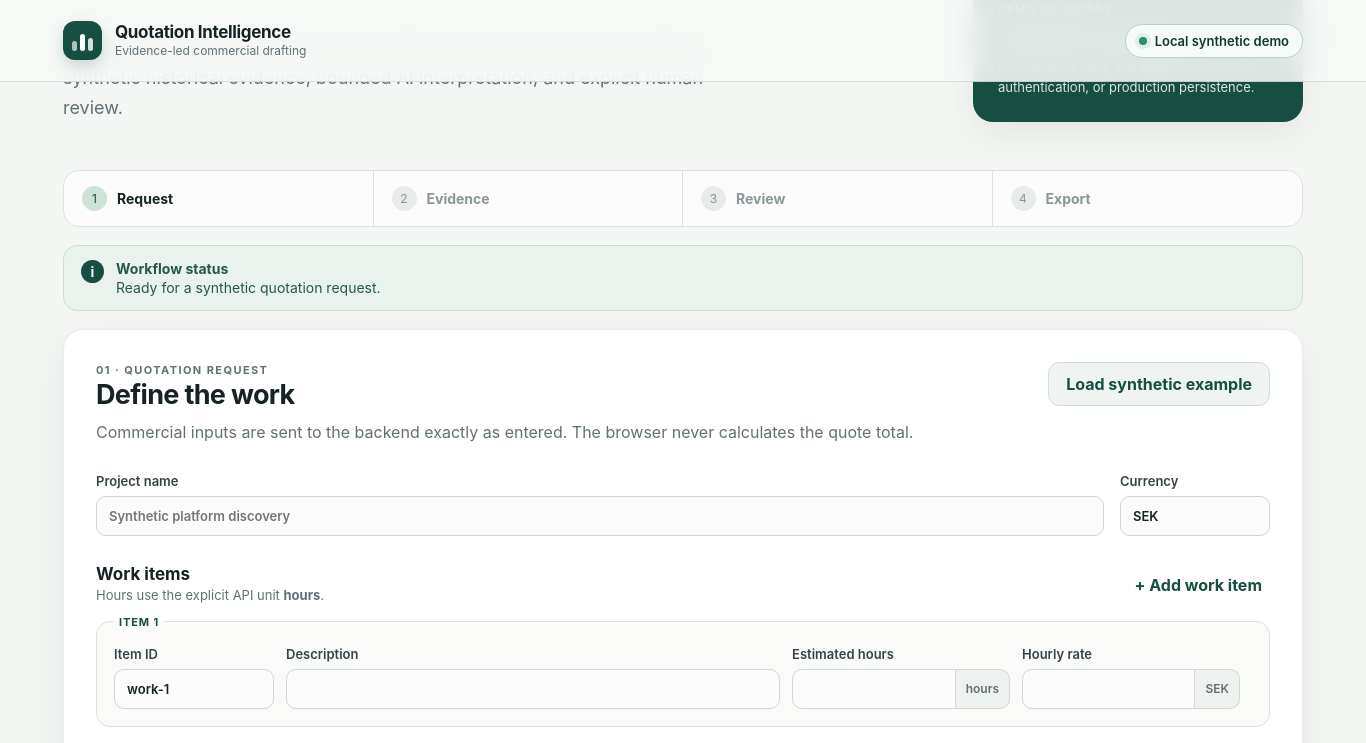
it: C20 quotation workflow › keeps export disabled until explicit backend approval and downloads backend bytes
(page scrolled)
Click the button "Load synthetic example" at (1159, 384), box [1048,362,1270,406]
(page scrolled)
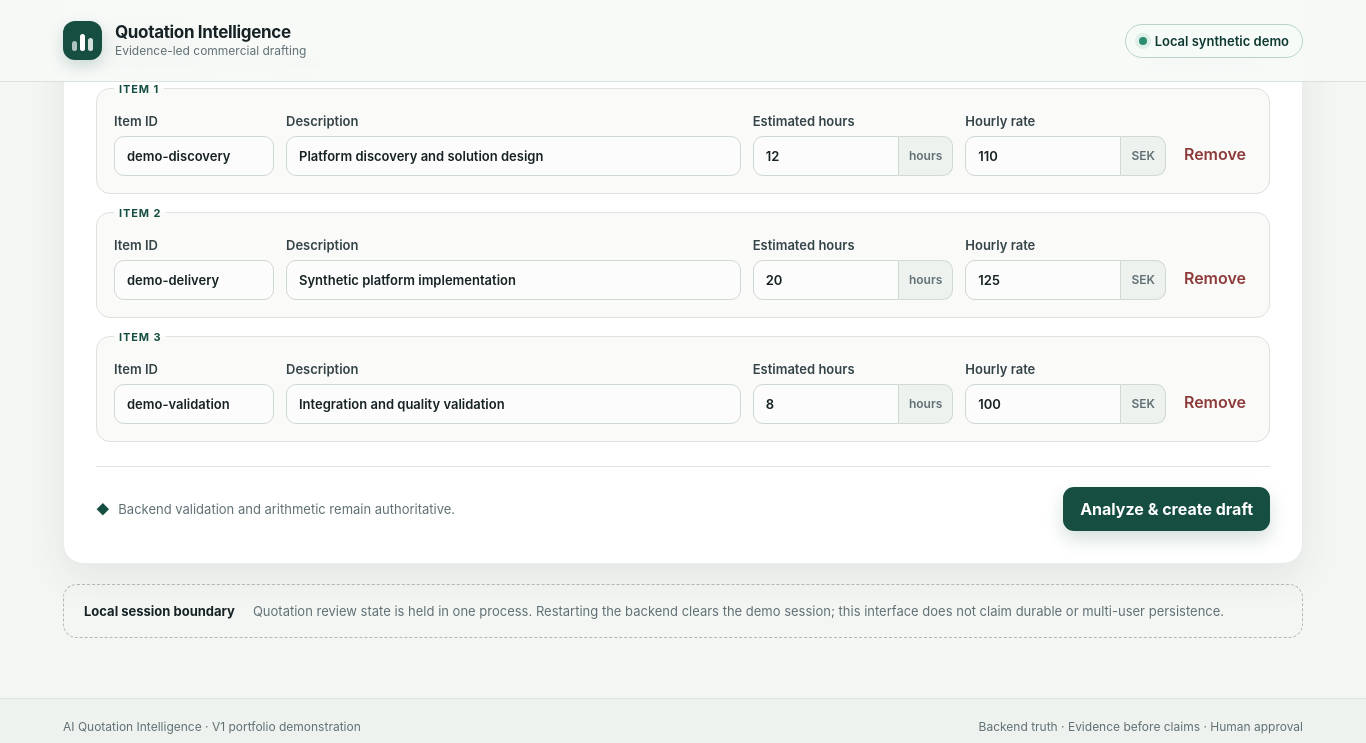
Click the button "Analyze & create draft" at (1167, 509), box [1063,487,1270,531]
(page scrolled)
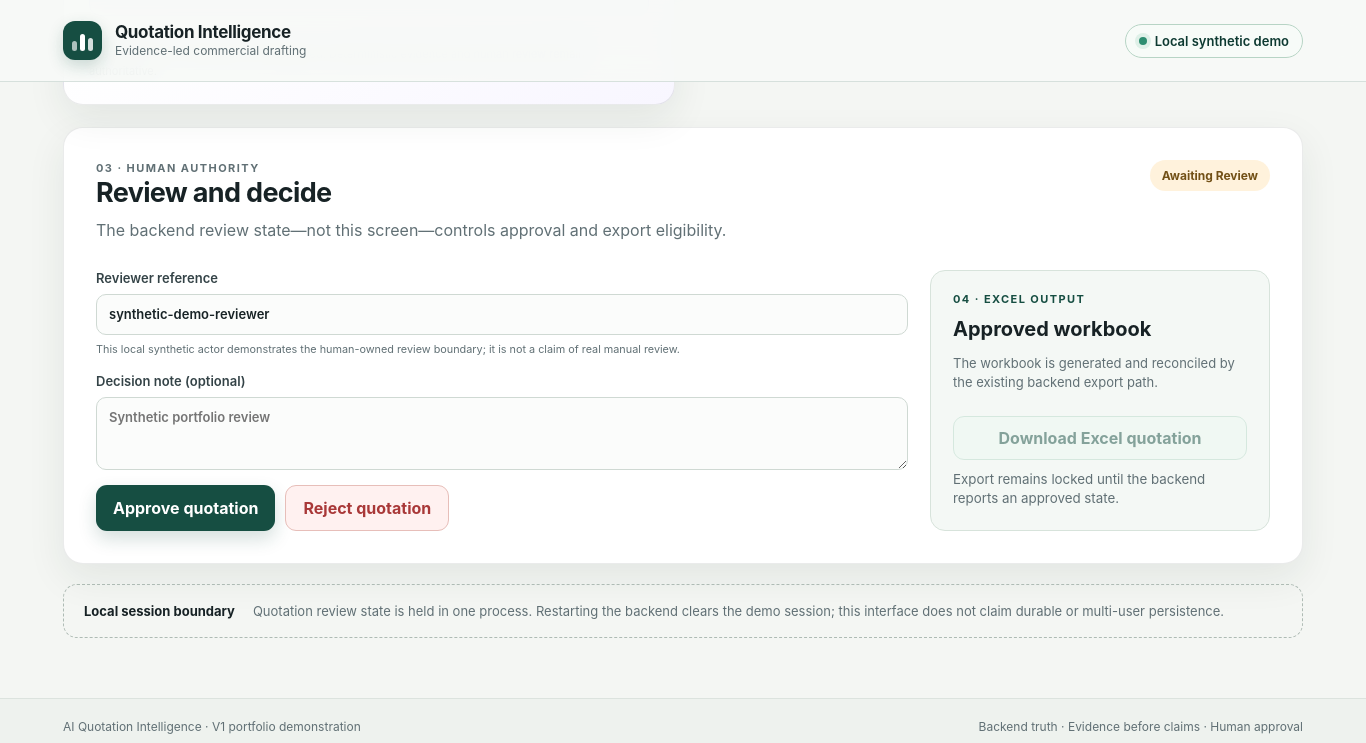
expect the button "Download Excel quotation" is disabled: met, box [953,416,1247,460]
Click the button "Approve quotation" at (186, 508), box [96,485,276,531]
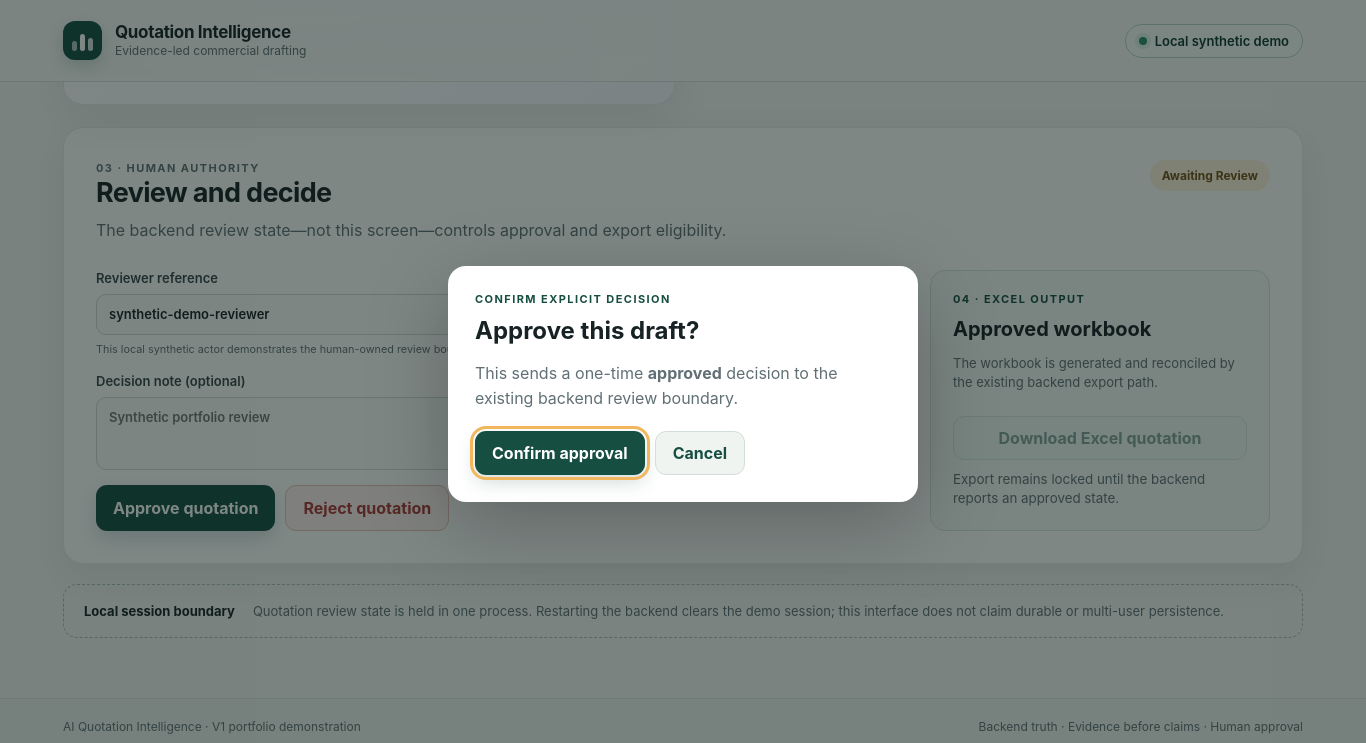
Click the button "Confirm approval" at (560, 453), box [475,431,645,475]
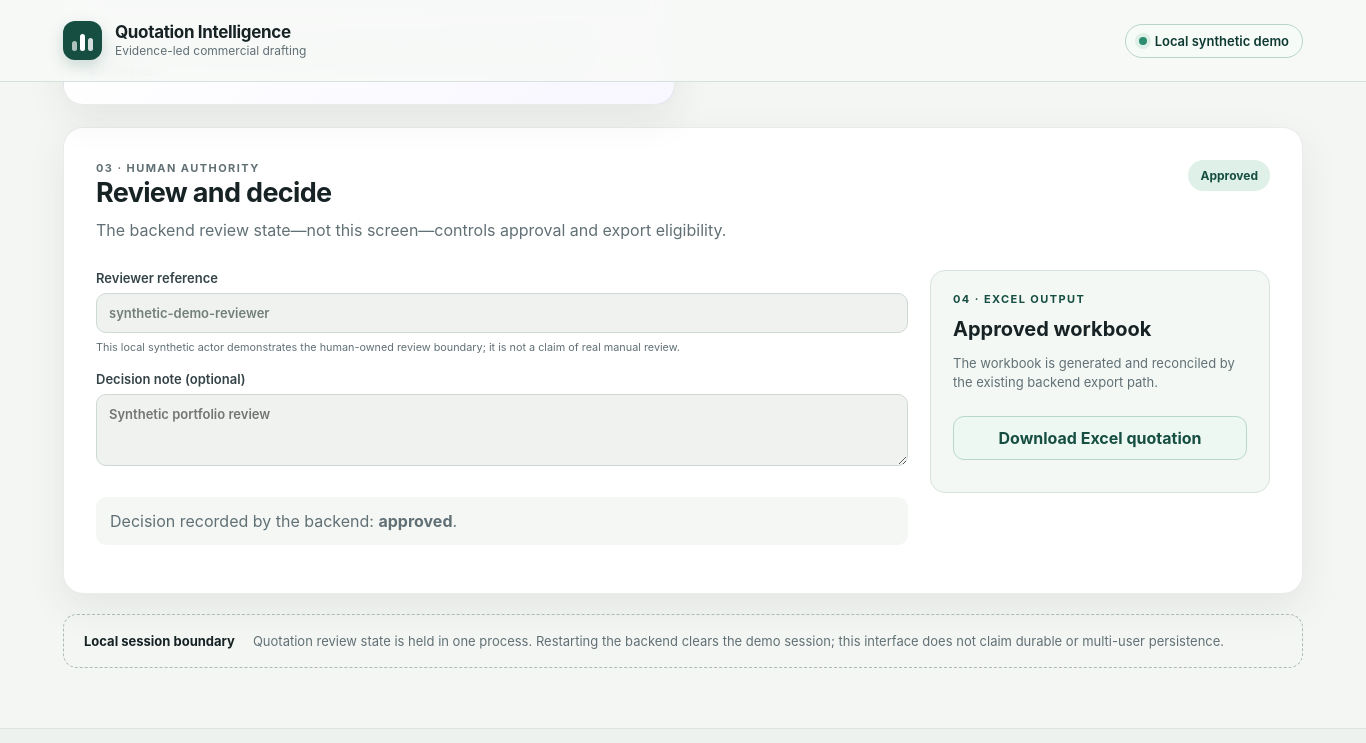
expect the button "Download Excel quotation" is enabled: met
Click the button "Download Excel quotation" at (1100, 438), box [953,416,1247,460]
(page scrolled)
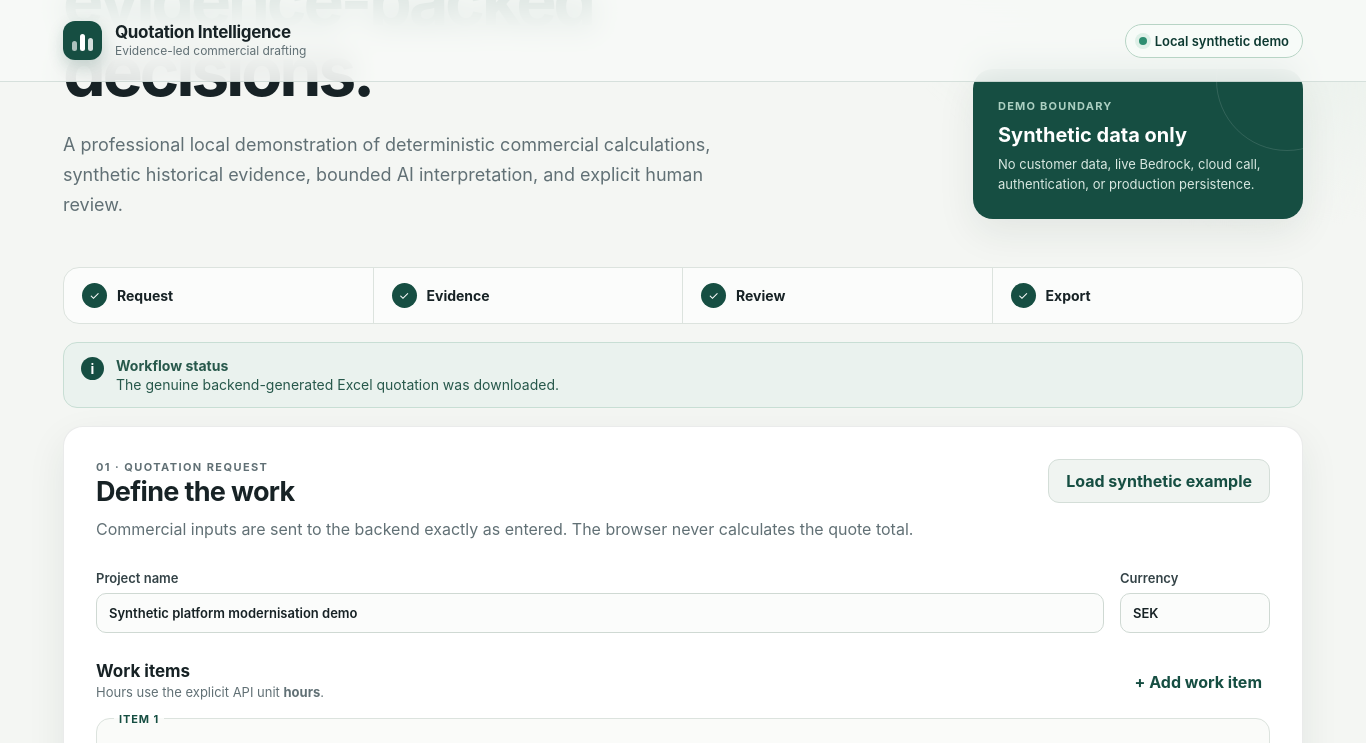
expect the text "genuine backend-generated Excel quotation was downloaded" is shown: met, box [116,376,559,393]
